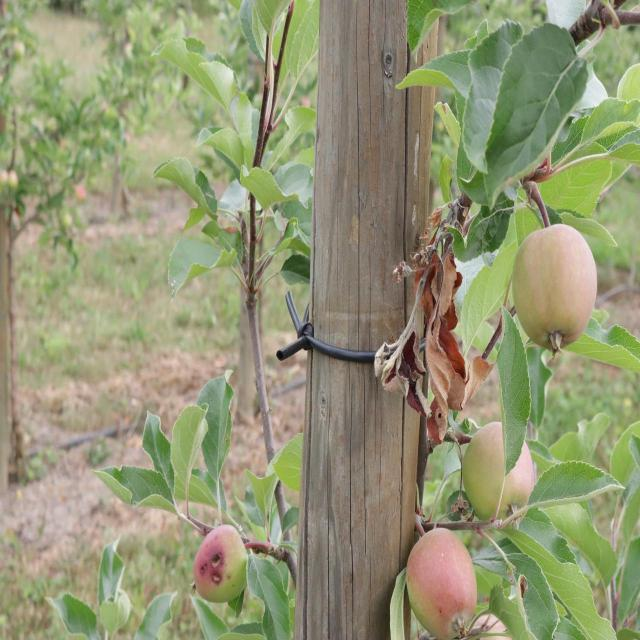-FireBlight-: (386, 235, 493, 433)
